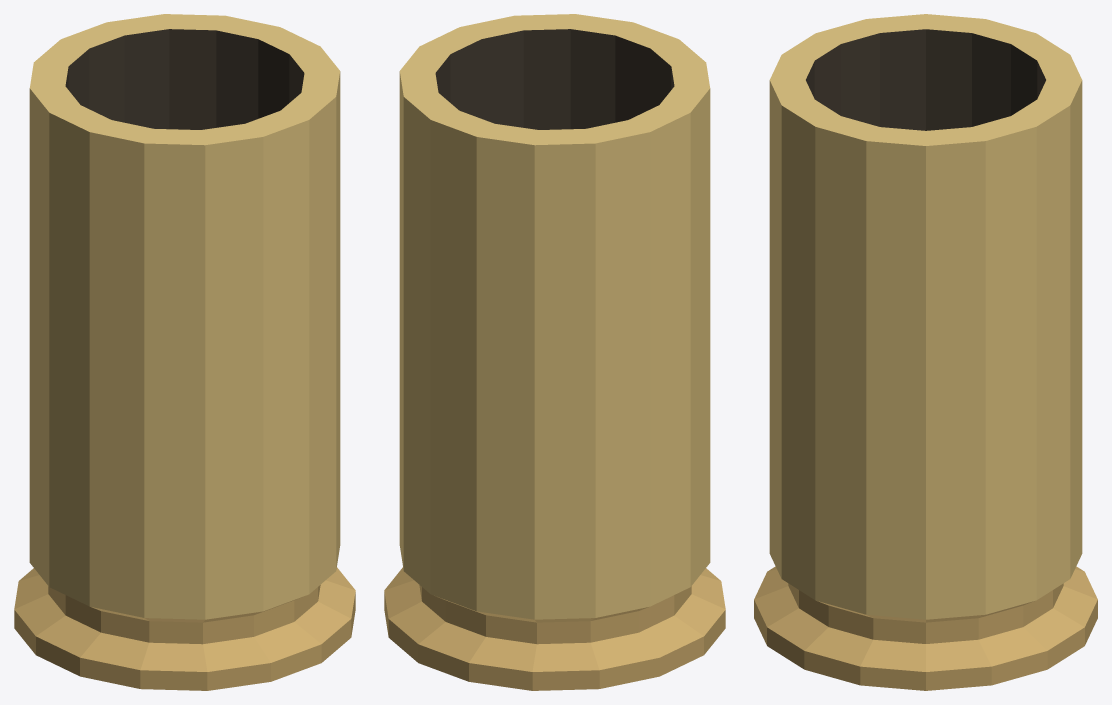
Rendered from SMG_SpentCase.glb.
The picture shows the model from 3 angles, left to right: view 1: azimuth 30°, elevation 25°; view 2: azimuth 150°, elevation 25°; view 3: azimuth 270°, elevation 25°; orthographic projection.
Visible parts, largest first — view 1: SMG_SpentCase; view 2: SMG_SpentCase; view 3: SMG_SpentCase.
Boxes of the visible parts, x1,y1,x2,y2 form: SMG_SpentCase: (14, 14, 355, 690); SMG_SpentCase: (384, 14, 725, 690); SMG_SpentCase: (754, 14, 1097, 690).
Size of the model in its own units: 0.011 by 0.0192 by 0.011.
